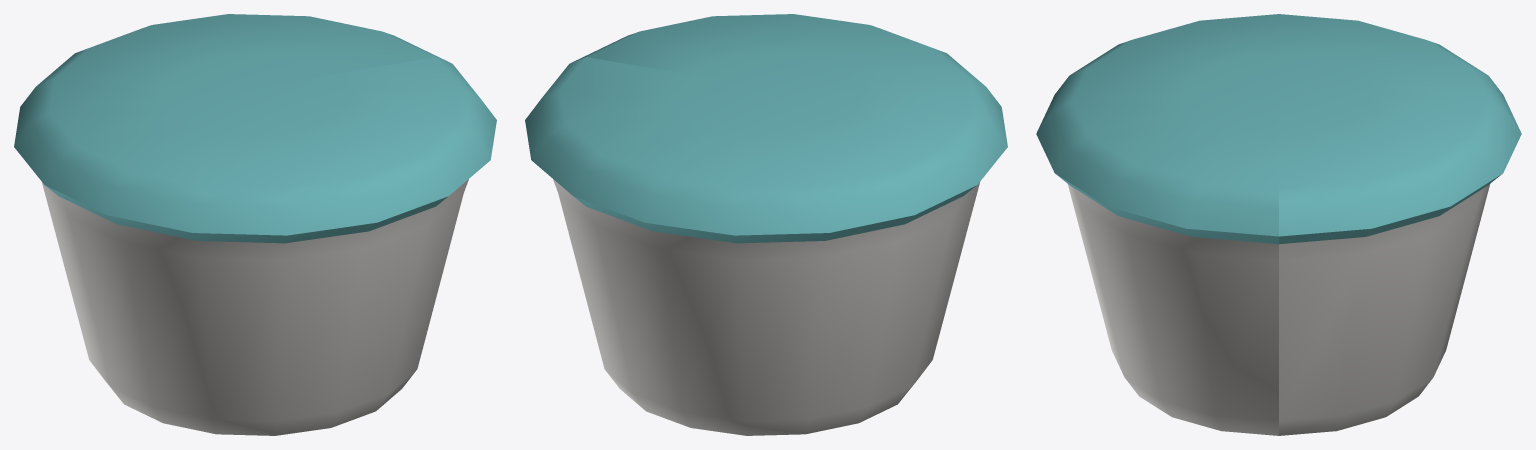
Rendered from fast-food-and-drive-thru-sauce-pot-with-lid-34304d93__16171.glb.
The picture shows the model from 3 angles, left to right: view 1: azimuth 30°, elevation 25°; view 2: azimuth 150°, elevation 25°; view 3: azimuth 270°, elevation 25°; orthographic projection.
Parts seen in each view (by area): view 1: sauce-pot-with-lid; view 2: sauce-pot-with-lid; view 3: sauce-pot-with-lid.
Boxes of the visible parts, bbox=[...] form: sauce-pot-with-lid: bbox=[14, 14, 496, 435]; sauce-pot-with-lid: bbox=[525, 14, 1007, 435]; sauce-pot-with-lid: bbox=[1036, 14, 1521, 435].
Size of the model in its own units: 0.061 by 0.039 by 0.061.
